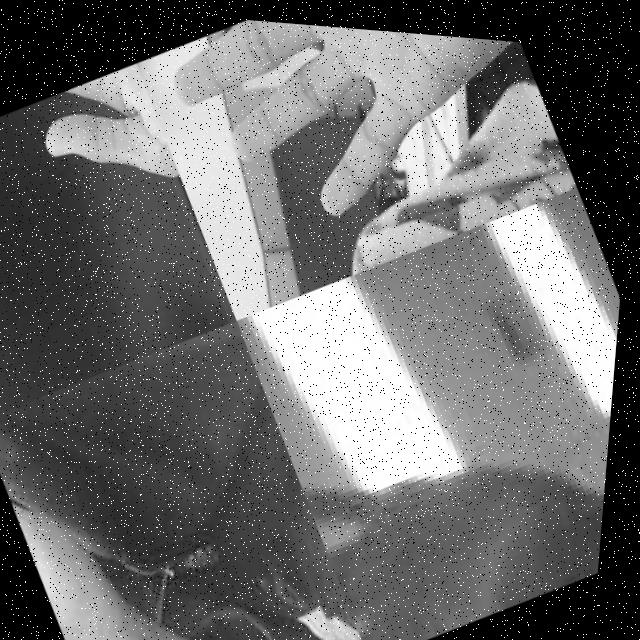hand: (144, 10, 574, 298), (0, 337, 325, 640), (289, 360, 610, 640), (0, 52, 211, 305)
